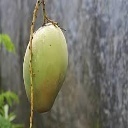mango: (23, 22, 68, 115)
